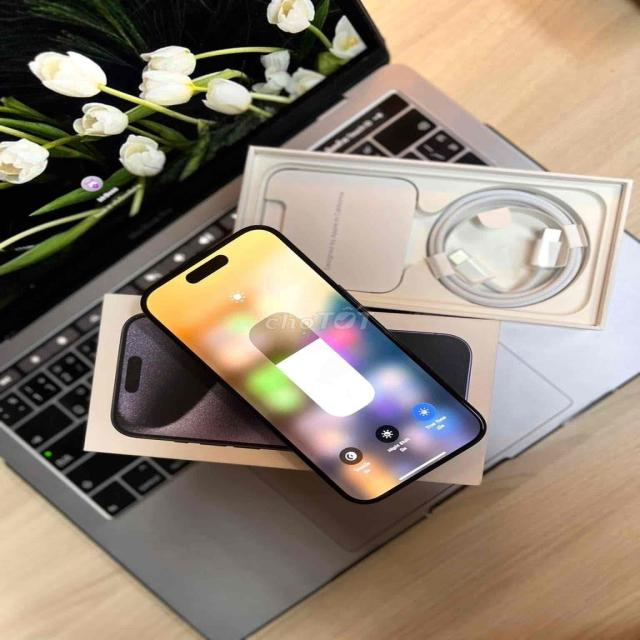gen_12_13: (138, 216, 498, 511)
